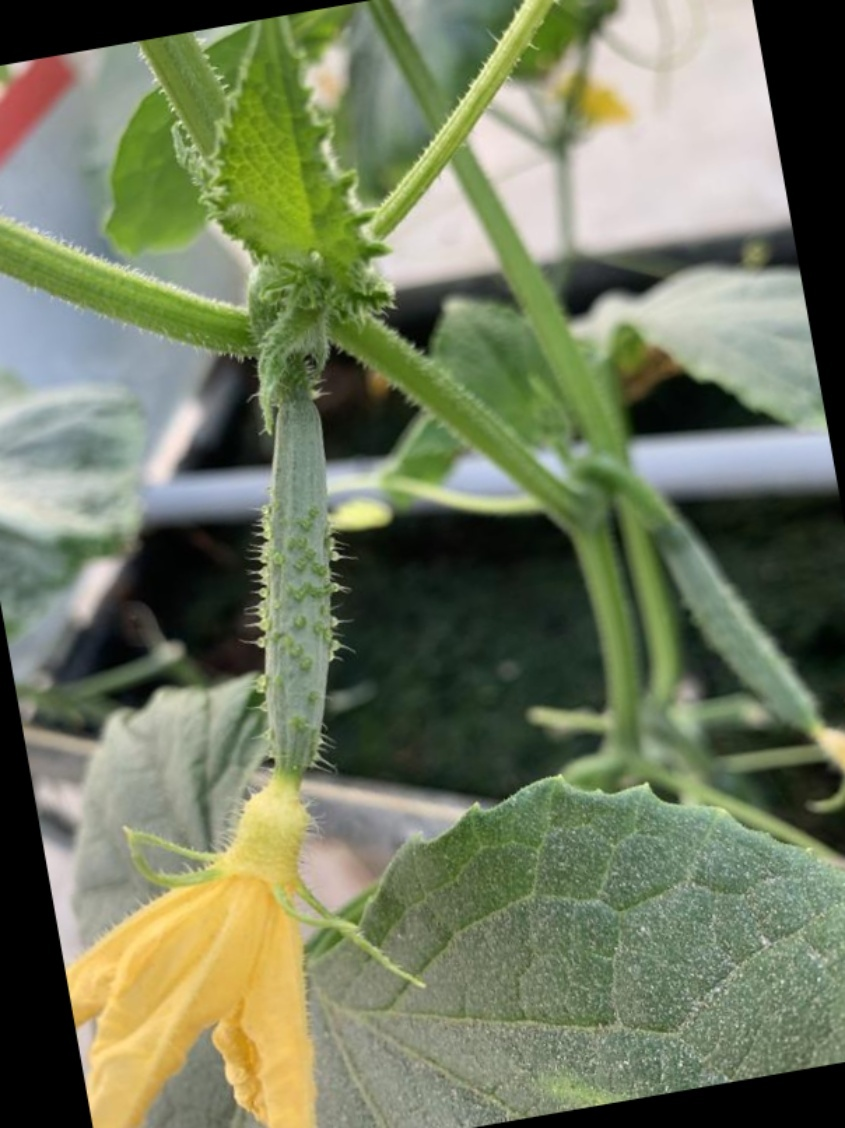bear: (0, 348, 417, 1100)
